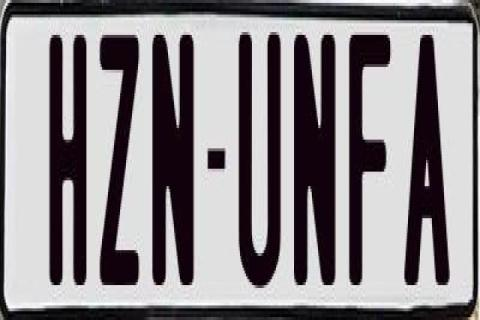A: (404, 35, 456, 288)
F: (347, 26, 389, 294)
H: (48, 32, 92, 288)
N: (292, 35, 334, 288), (150, 29, 190, 282)
U: (236, 32, 278, 294)
Z: (98, 29, 138, 285)
